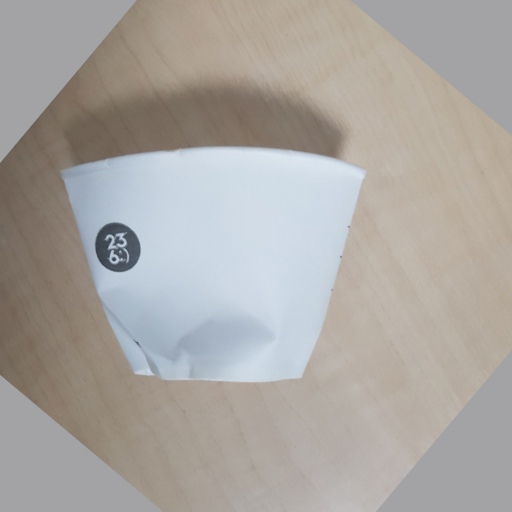Paper_1: (58, 145, 368, 387)
